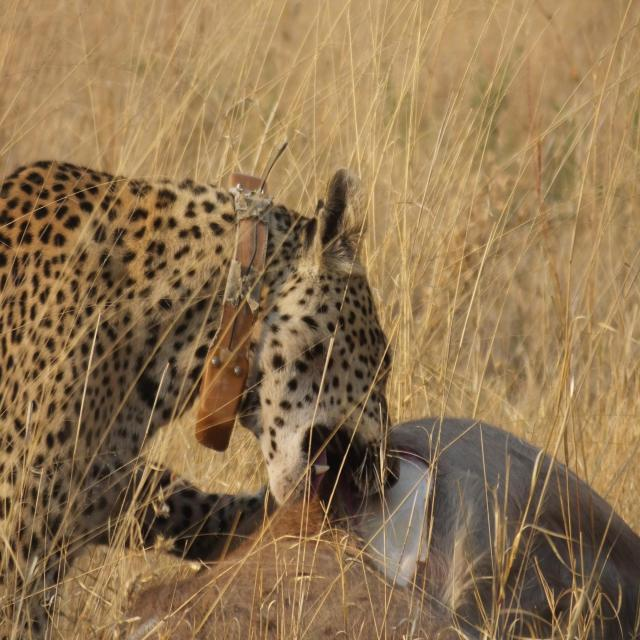Leopard: (0, 49, 407, 635)
